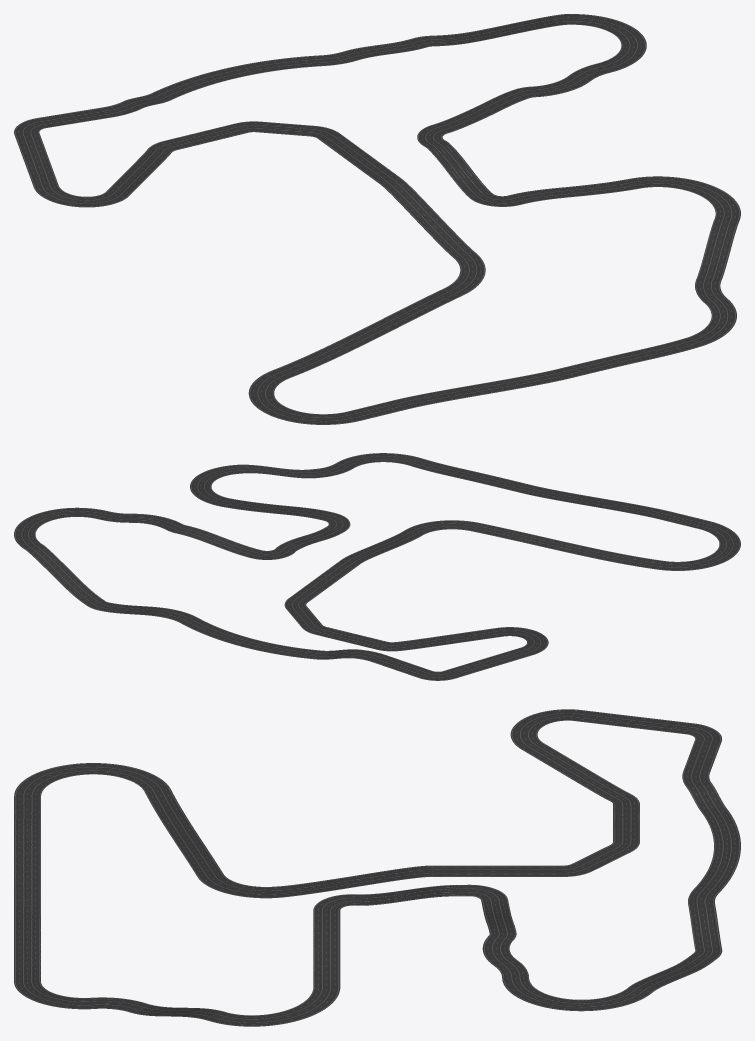
File: road.fbx
The picture shows the model from 3 angles, top to bottom: view 1: azimuth 30°, elevation 25°; view 2: azimuth 150°, elevation 25°; view 3: azimuth 270°, elevation 25°; orthographic projection. The views are drawn at different scales.
Parts seen in each view (by area): view 1: Road; view 2: Road; view 3: Road.
Part boxes in pixels (<box>): Road: <box>14,14,740,424</box>; Road: <box>14,453,740,680</box>; Road: <box>14,709,740,1026</box>.
Bounding box in the file's own units: 90536 × 10318 × 88320.
Materials: 1 (1 with a texture image).
